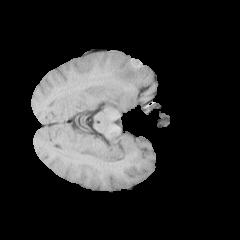glioma: (103, 56, 151, 99)
